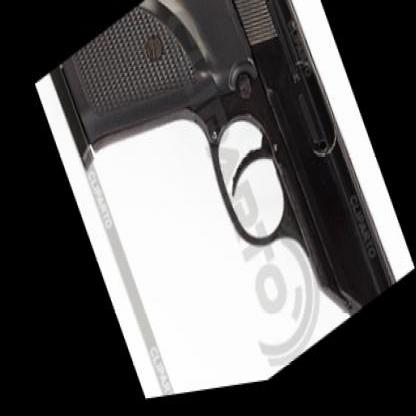pistol: (44, 0, 401, 406)
